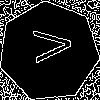V: (24, 26, 73, 65)
